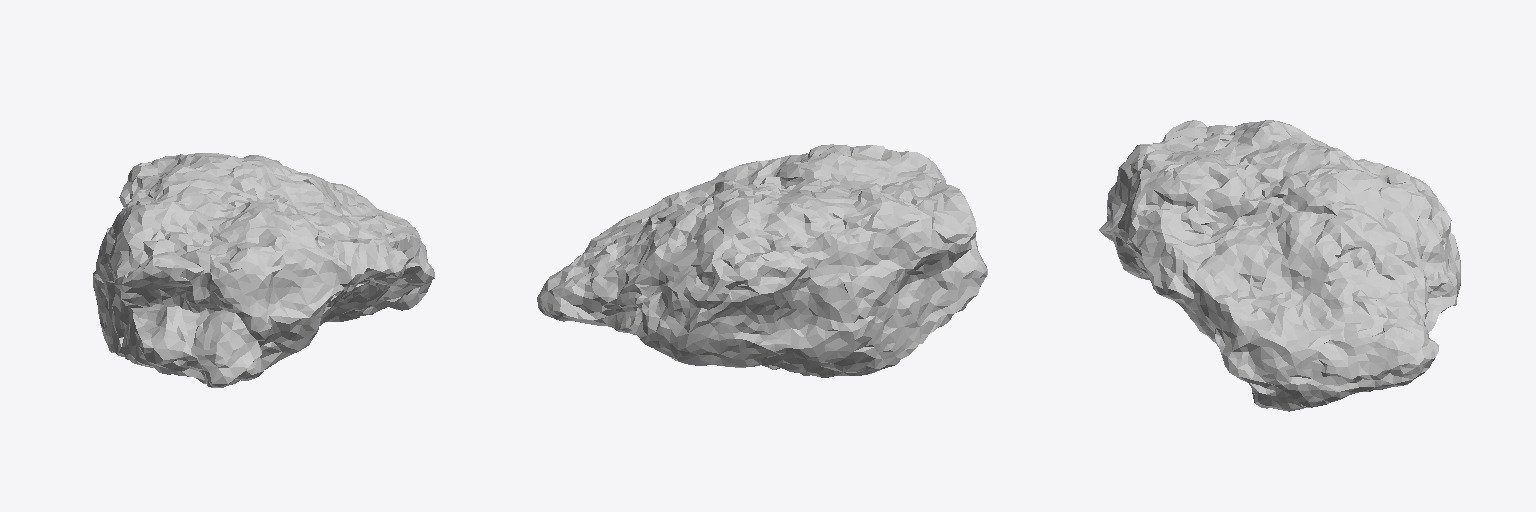
File: rock1.obj
The picture shows the model from 3 angles: view 1: azimuth 30°, elevation 25°; view 2: azimuth 150°, elevation 25°; view 3: azimuth 270°, elevation 25°; orthographic projection.
Parts seen in each view (by area): view 1: moss_rock_13; view 2: moss_rock_13; view 3: moss_rock_13.
Part boxes in pixels (x1,y1,x2,y2): moss_rock_13: (93, 153, 434, 387); moss_rock_13: (537, 144, 987, 377); moss_rock_13: (1099, 120, 1460, 411).
Bounding box in the file's own units: 1.58 × 0.736 × 1.44.